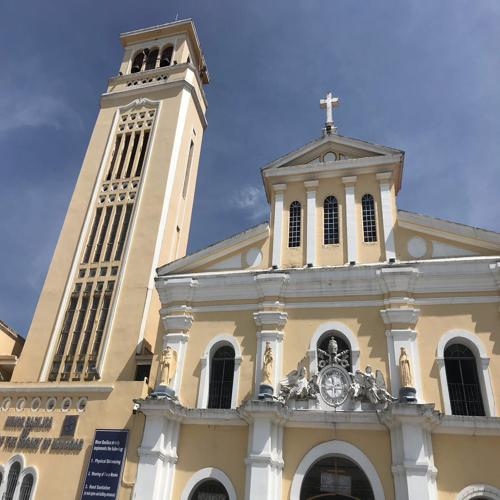Manaoag Church: (30, 17, 500, 500)
